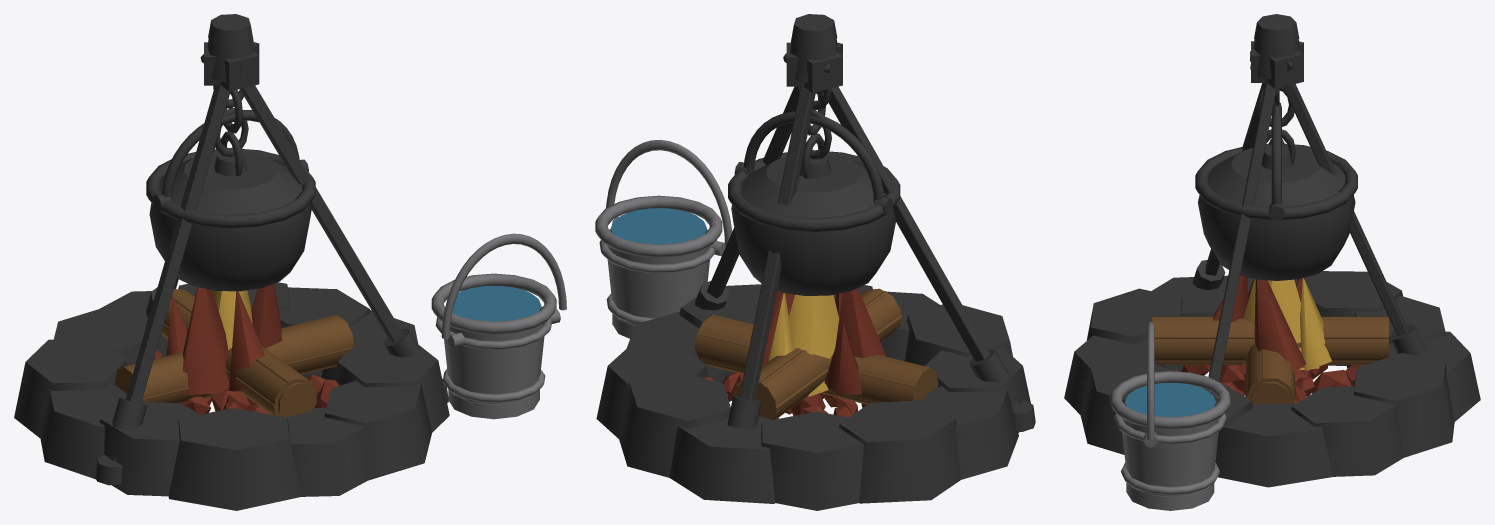
The model's file is campfire.glb.
The picture shows the model from 3 angles, left to right: view 1: azimuth 30°, elevation 25°; view 2: azimuth 150°, elevation 25°; view 3: azimuth 270°, elevation 25°; orthographic projection. The views are drawn at different scales.
Visible parts, largest first — view 1: campfire-farm-roof-slate, campfire-farm-metal, campfire-farm-wood-shadow, campfire-farm-barn-red-dark, campfire-farm-water-deep, campfire-farm-gold; view 2: campfire-farm-roof-slate, campfire-farm-metal, campfire-farm-wood-shadow, campfire-farm-barn-red-dark, campfire-farm-gold, campfire-farm-water-deep; view 3: campfire-farm-roof-slate, campfire-farm-metal, campfire-farm-wood-shadow, campfire-farm-barn-red-dark, campfire-farm-gold, campfire-farm-water-deep.
Boxes of the visible parts, left/top/right/bottom form: campfire-farm-roof-slate: left=14, top=14, right=449, bottom=510; campfire-farm-metal: left=431, top=233, right=566, bottom=419; campfire-farm-wood-shadow: left=115, top=289, right=354, bottom=417; campfire-farm-barn-red-dark: left=154, top=284, right=339, bottom=414; campfire-farm-water-deep: left=452, top=286, right=541, bottom=321; campfire-farm-gold: left=213, top=290, right=252, bottom=389; campfire-farm-roof-slate: left=596, top=14, right=1035, bottom=510; campfire-farm-metal: left=595, top=140, right=732, bottom=338; campfire-farm-wood-shadow: left=695, top=288, right=938, bottom=419; campfire-farm-barn-red-dark: left=704, top=288, right=886, bottom=418; campfire-farm-gold: left=768, top=293, right=839, bottom=396; campfire-farm-water-deep: left=610, top=208, right=706, bottom=244; campfire-farm-roof-slate: left=1064, top=14, right=1480, bottom=487; campfire-farm-metal: left=1110, top=322, right=1230, bottom=510; campfire-farm-wood-shadow: left=1149, top=316, right=1388, bottom=403; campfire-farm-barn-red-dark: left=1174, top=275, right=1363, bottom=403; campfire-farm-gold: left=1243, top=278, right=1331, bottom=370; campfire-farm-water-deep: left=1125, top=383, right=1215, bottom=416.
Bounding box in the file's own units: 3.35 × 2.74 × 2.75.
